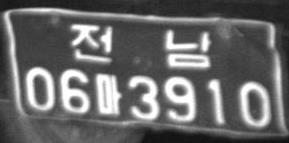0: (238, 78, 273, 131), (23, 64, 56, 113)
1: (202, 77, 230, 126)
3: (127, 73, 161, 120)
6: (58, 67, 91, 115)
9: (163, 74, 198, 124)
마: (95, 72, 123, 117)
전남_D: (70, 21, 212, 70)
